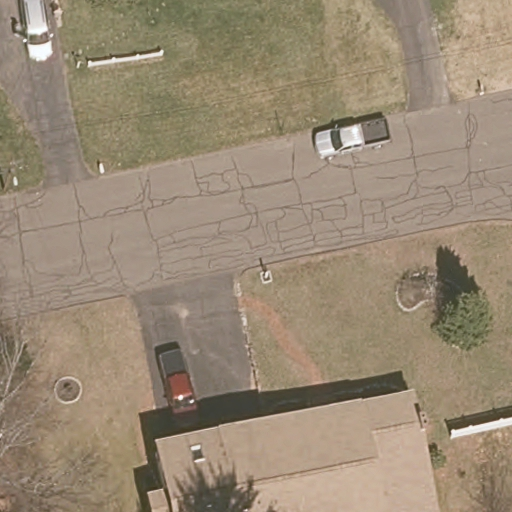DT: (3, 154, 23, 194)
